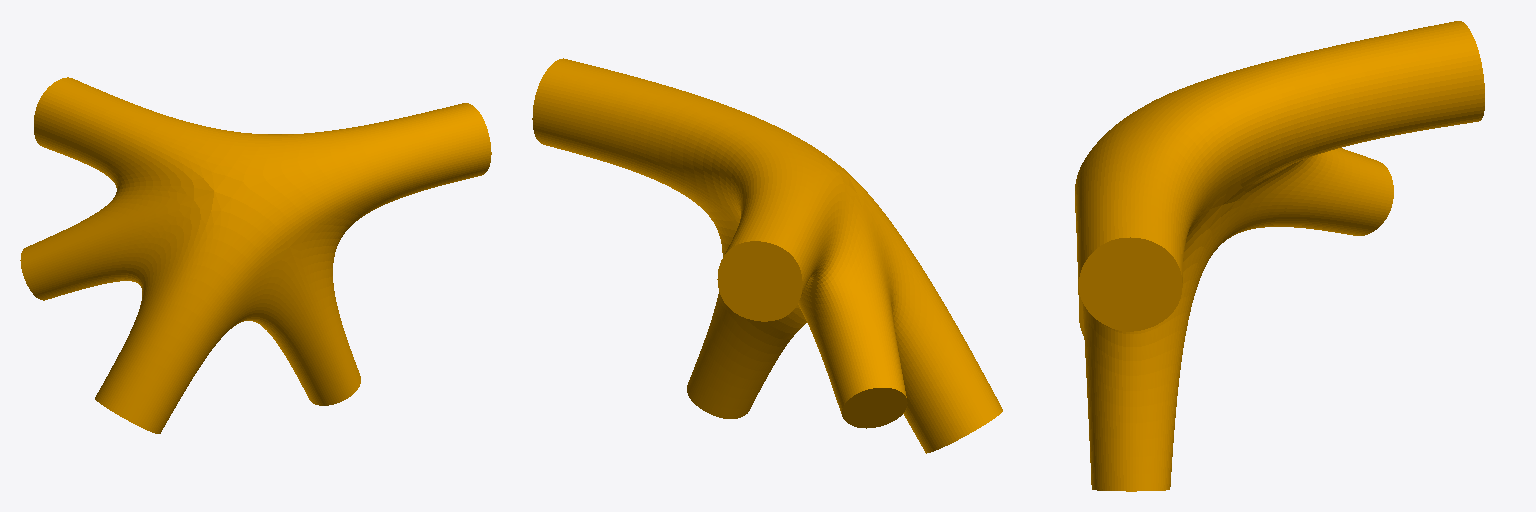
The robot description file, URDF, robot "object":
<robot name="object">
  <link name="object">
    <visual>
      <origin xyz="0 0 0"/>
      <geometry>
        <mesh filename="visual.obj" scale="1 1 1"/>
      </geometry>
    </visual>
    <collision>
      <origin xyz="0 0 0"/>
      <geometry>
        <mesh filename="collision.obj" scale="1 1 1"/>
      </geometry>
    </collision>
    <inertial>
      <mass value="0.05"/>
      <inertia ixx="0.00012602136830714892" iyy="0.00019406217711382241" izz="0.0001905357840080926" ixy="3.9782286631517505e-05" ixz="-2.9350189957324747e-05" iyz="-2.0925103430074198e-05"/>
    </inertial>
  </link>
</robot>

--- What the picture shows (computed from the rendered views, not written in the file) ---
3 views of the same robot in one strip: view 1: azimuth 30°, elevation 25°; view 2: azimuth 150°, elevation 25°; view 3: azimuth 270°, elevation 25° (orthographic).
Model object with 1 links and 0 joints (none), rooted at object, posed every joint at zero.
Links seen in each view (by area): view 1: object; view 2: object; view 3: object.
Link boxes in pixels (x1,y1,x2,y2): object: (20, 77, 491, 433); object: (532, 58, 1002, 453); object: (1075, 21, 1484, 491).
Bounding box of the posed robot: 0.2352 × 0.1611 × 0.161 m (x, y, z).
1 mesh visuals loaded from 1 distinct referenced files (1 OBJ).
